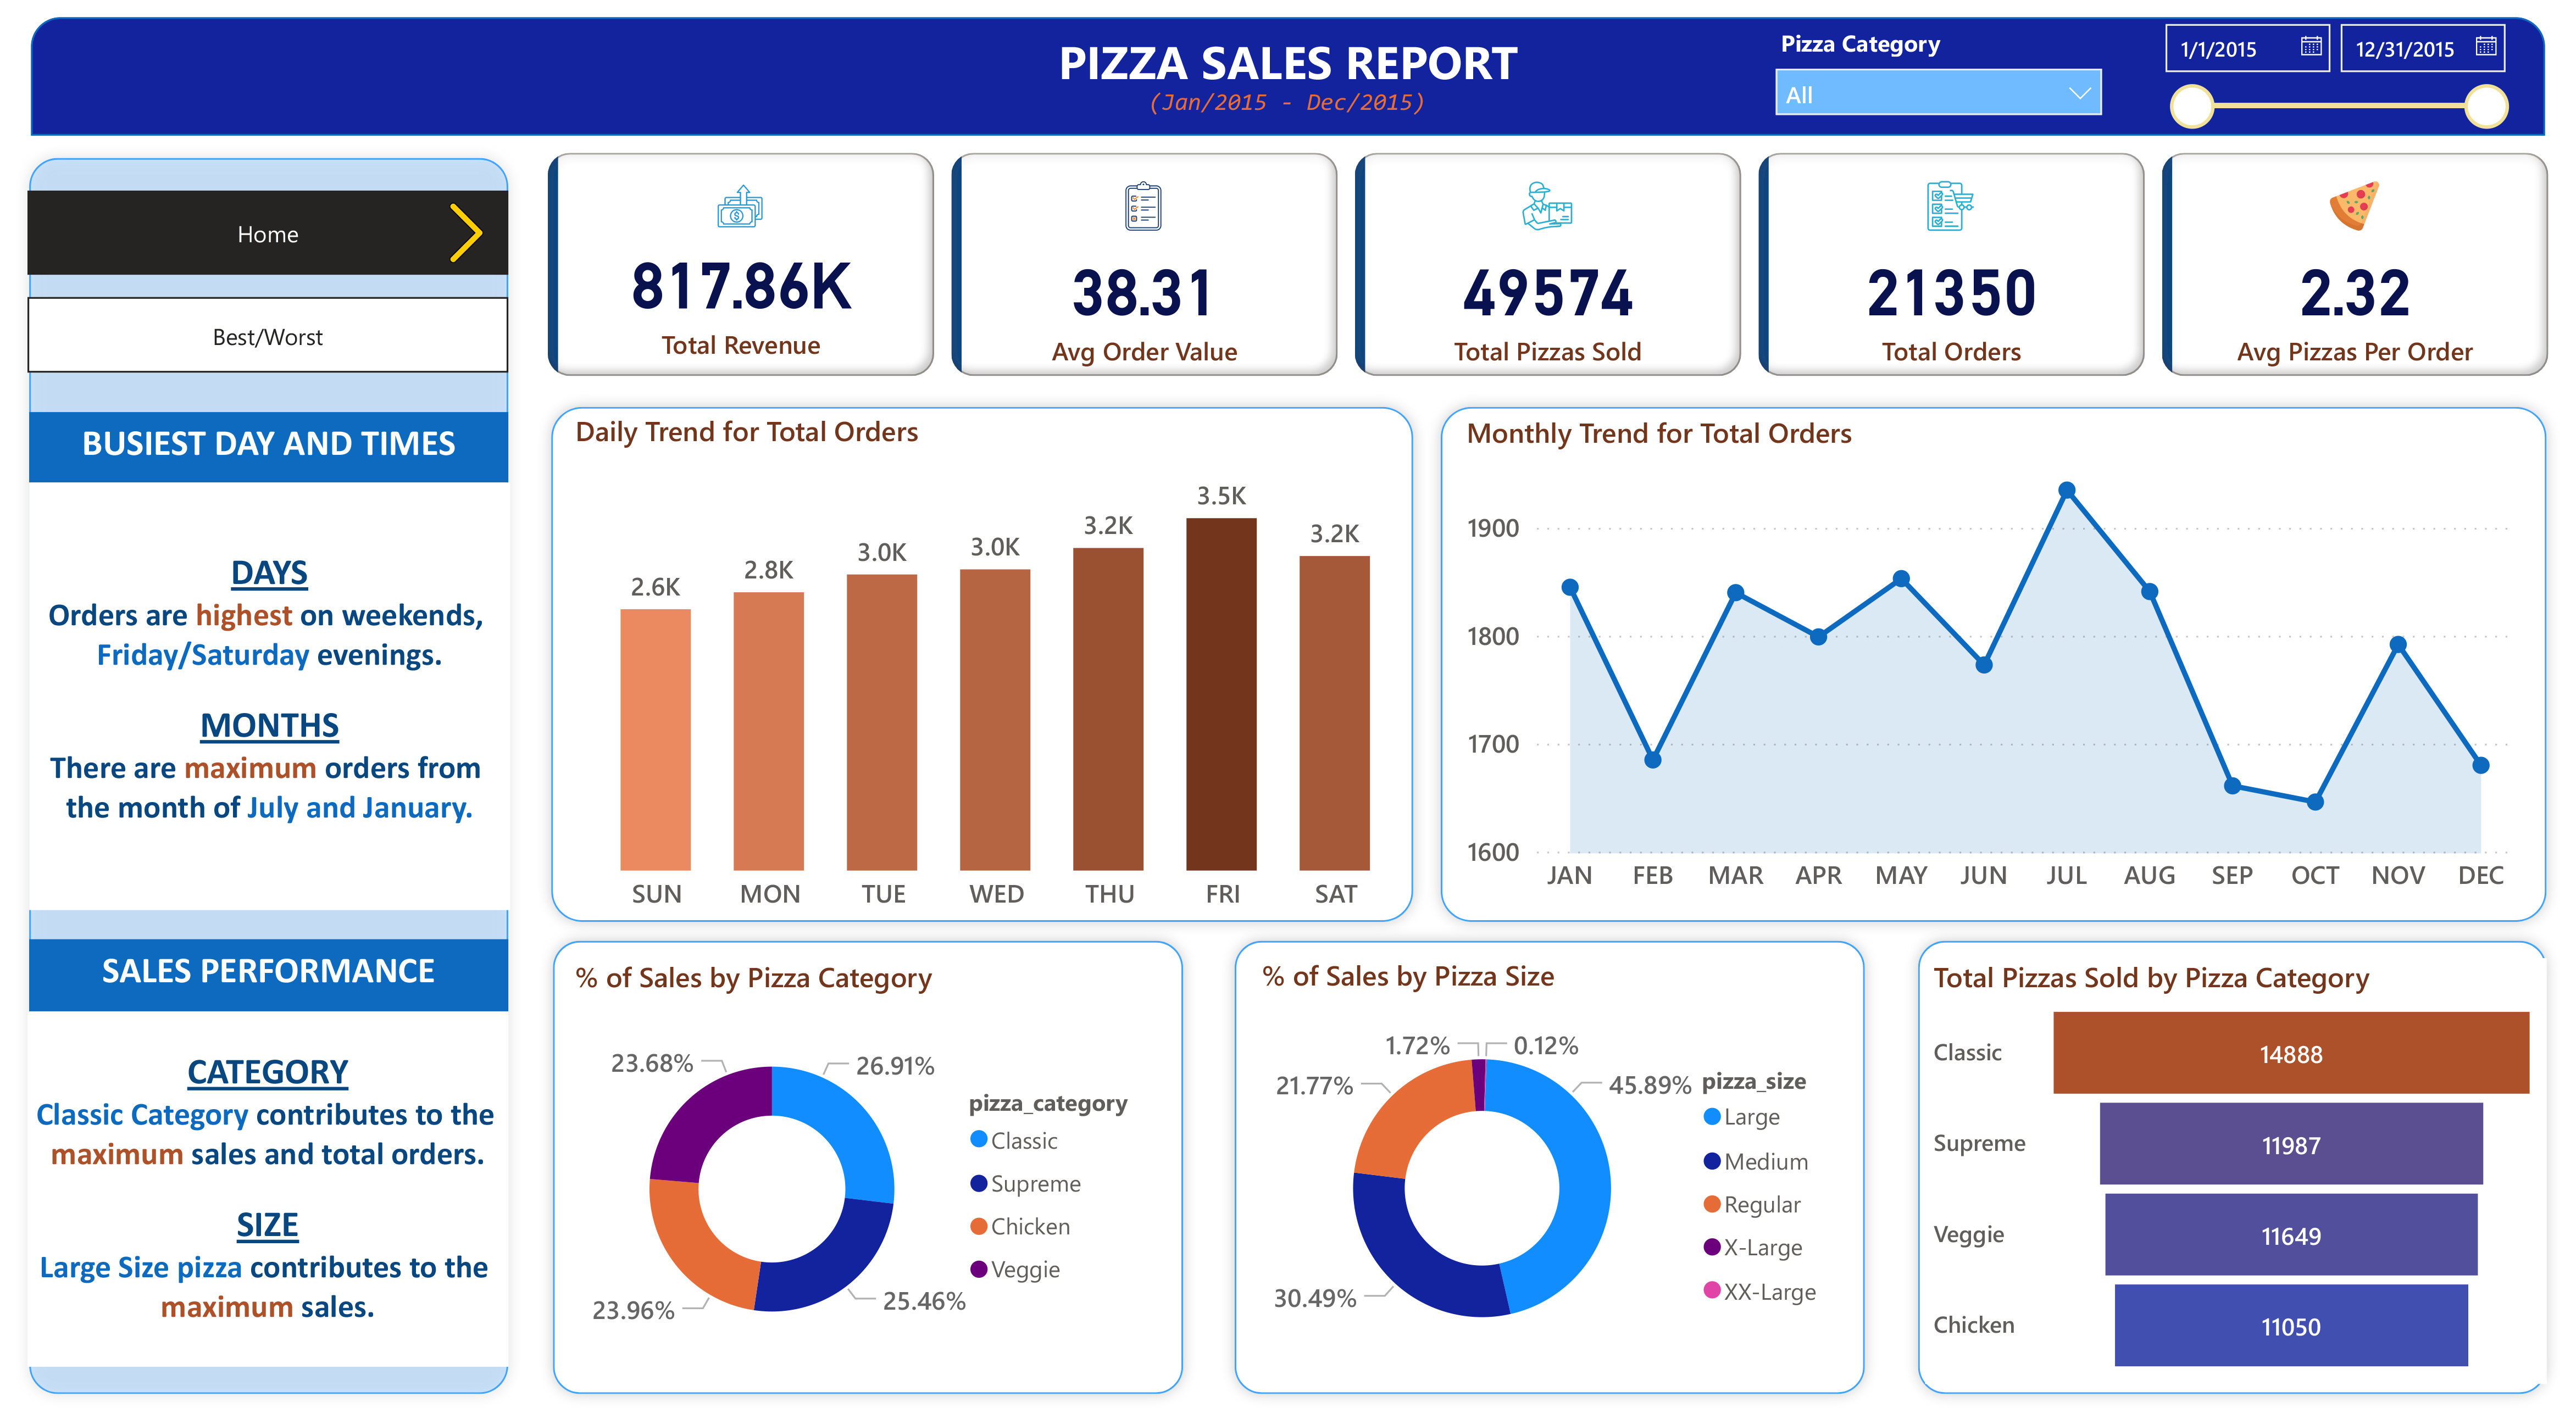

The page's visual inventory and layout, read from the dashboard file:
{"tool":"powerbi","page":{"name":"Home","canvas":[1500,820],"ordinal":0},"visuals":[{"type":"shape","box":[8.6,84.3,295.7,735.7],"z":0},{"type":"cardVisual","fields":{"Data":["pizza_sales.Total Revenue","pizza_sales.Avg order value","pizza_sales.Total Pizzas Sold","pizza_sales.Total orders","pizza_sales.Avg Pizzas Per Order"]},"box":[313.8,83.8,1177.5,140],"z":1000},{"type":"shape","box":[17.8,10,1464.4,68.9],"z":2000},{"type":"textbox","box":[18,12,1464,64],"z":3000},{"type":"textbox","box":[17.5,45,1463.8,35],"z":4000},{"type":"shape","box":[312.5,228.8,518.8,316.2],"z":5000},{"type":"columnChart","title":"Daily Trend for Total Orders","fields":{"Category":["pizza_sales.Order Day"],"Y":["pizza_sales.Total orders"]},"box":[330,240,501.2,301.2],"z":6000},{"type":"shape","box":[831.2,228.8,660,316.2],"z":7000},{"type":"areaChart","title":"Monthly Trend for Total Orders","fields":{"Category":["pizza_sales.Order Month"],"Y":["pizza_sales.Total orders"]},"box":[848.8,241.2,620,288.8],"z":8000},{"type":"shape","box":[314.3,540,382.9,280],"z":9000},{"type":"shape","box":[711.4,540,382.9,280],"z":10000},{"type":"shape","box":[1108.6,540,382.9,280],"z":11000},{"type":"donutChart","title":"% of Sales by Pizza Category","fields":{"Category":["pizza_sales.pizza_category"],"Y":["pizza_sales.Total Revenue"]},"box":[330,557.5,347.5,248.8],"z":12000},{"type":"donutChart","title":"% of Sales by Pizza Size","fields":{"Category":["pizza_sales.pizza_size"],"Y":["pizza_sales.Total Revenue"]},"box":[730,557.1,345.7,248.6],"z":13000},{"type":"funnel","title":"Total Pizzas Sold by Pizza Category","fields":{"Y":["pizza_sales.Total Pizzas Sold"],"Category":["pizza_sales.pizza_category"]},"box":[1121.2,557.5,361.2,248.8],"z":14000},{"type":"textbox","box":[17.1,240,278.6,41.4],"z":15000},{"type":"textbox","box":[17.1,281.4,280,248.6],"z":16000},{"type":"textbox","box":[17.1,547.1,278.6,41.4],"z":17000},{"type":"textbox","box":[15.7,588.6,280,207.1],"z":18000},{"type":"slicer","fields":{"Values":["pizza_sales.pizza_category"]},"box":[1024.4,11.1,210,65.6],"z":19000},{"type":"slicer","fields":{"Values":["pizza_sales.order_date"]},"box":[1247.8,4.4,221.1,74.4],"z":20000},{"type":"pageNavigator","box":[15.7,111.4,280,48.6],"z":21000},{"type":"pageNavigator","box":[15.7,172.9,280,44.3],"z":22000},{"type":"image","box":[248.6,111.4,45.7,48.6],"z":23000}]}

Visuals, with their boxes in screenshot pixels (x1, y1, x2, y2), scaled from the page's 1500x820 canvas onto the 2576x1408 screenshot:
shape: [left=15, top=144, right=523, bottom=1407]
cardVisual - pizza_sales.Total Revenue x pizza_sales.Avg order value: [left=539, top=144, right=2561, bottom=385]
shape: [left=31, top=17, right=2545, bottom=136]
textbox: [left=31, top=21, right=2545, bottom=131]
textbox: [left=30, top=77, right=2544, bottom=137]
shape: [left=537, top=393, right=1428, bottom=936]
"Daily Trend for Total Orders" columnChart: [left=567, top=412, right=1428, bottom=930]
shape: [left=1428, top=393, right=2561, bottom=936]
"Monthly Trend for Total Orders" areaChart: [left=1458, top=414, right=2522, bottom=910]
shape: [left=540, top=927, right=1197, bottom=1407]
shape: [left=1222, top=927, right=1879, bottom=1407]
shape: [left=1904, top=927, right=2561, bottom=1407]
"% of Sales by Pizza Category" donutChart: [left=567, top=958, right=1163, bottom=1384]
"% of Sales by Pizza Size" donutChart: [left=1253, top=956, right=1847, bottom=1383]
"Total Pizzas Sold by Pizza Category" funnel: [left=1925, top=958, right=2546, bottom=1384]
textbox: [left=29, top=412, right=508, bottom=483]
textbox: [left=29, top=483, right=510, bottom=910]
textbox: [left=29, top=939, right=508, bottom=1010]
textbox: [left=27, top=1011, right=508, bottom=1366]
slicer - pizza_sales.pizza_category: [left=1759, top=19, right=2120, bottom=132]
slicer - pizza_sales.order_date: [left=2143, top=8, right=2523, bottom=135]
pageNavigator: [left=27, top=191, right=508, bottom=275]
pageNavigator: [left=27, top=297, right=508, bottom=373]
image: [left=427, top=191, right=506, bottom=275]
